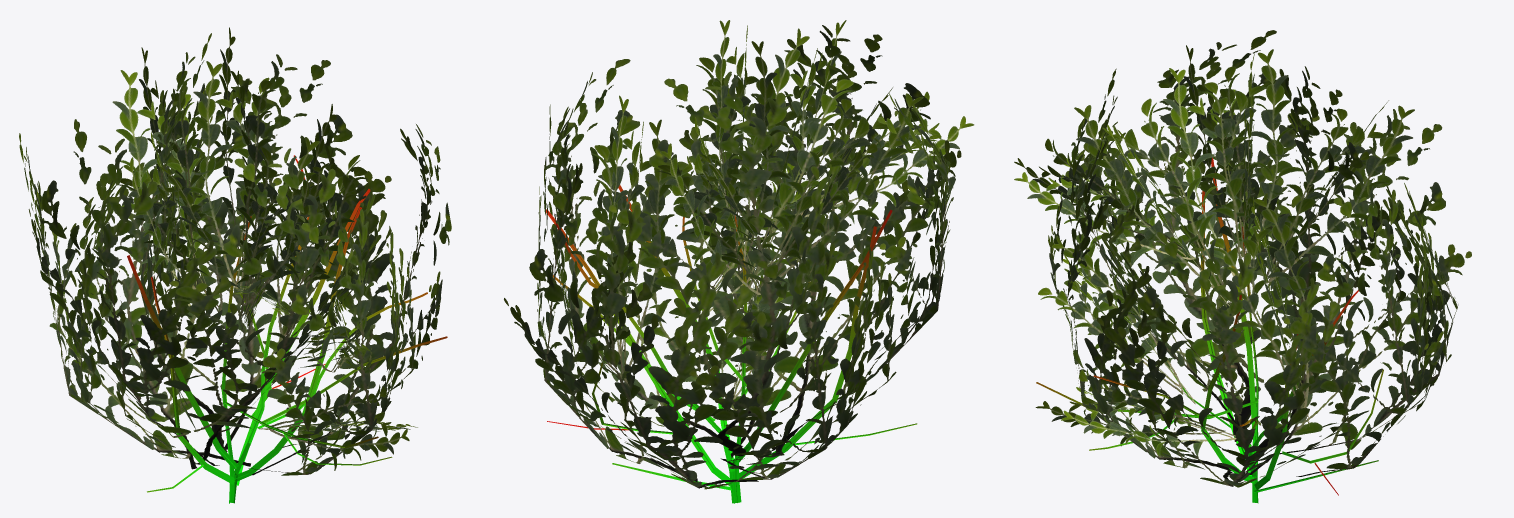
File: W_shrub_A_L1.fbx
3 views of the same model, side by side, from view 1: azimuth 30°, elevation 25°; view 2: azimuth 150°, elevation 25°; view 3: azimuth 270°, elevation 25° (orthographic). The views are drawn at different scales.
Visible parts, largest first — view 1: W_shrub_A_L1; view 2: W_shrub_A_L1; view 3: W_shrub_A_L1.
Boxes of the visible parts, x1=… form: W_shrub_A_L1: x1=19, y1=27, x2=451, y2=503; W_shrub_A_L1: x1=504, y1=20, x2=974, y2=503; W_shrub_A_L1: x1=1014, y1=30, x2=1471, y2=503.
Bounding box in the file's own units: 0.9436 × 1.14 × 1.09.
